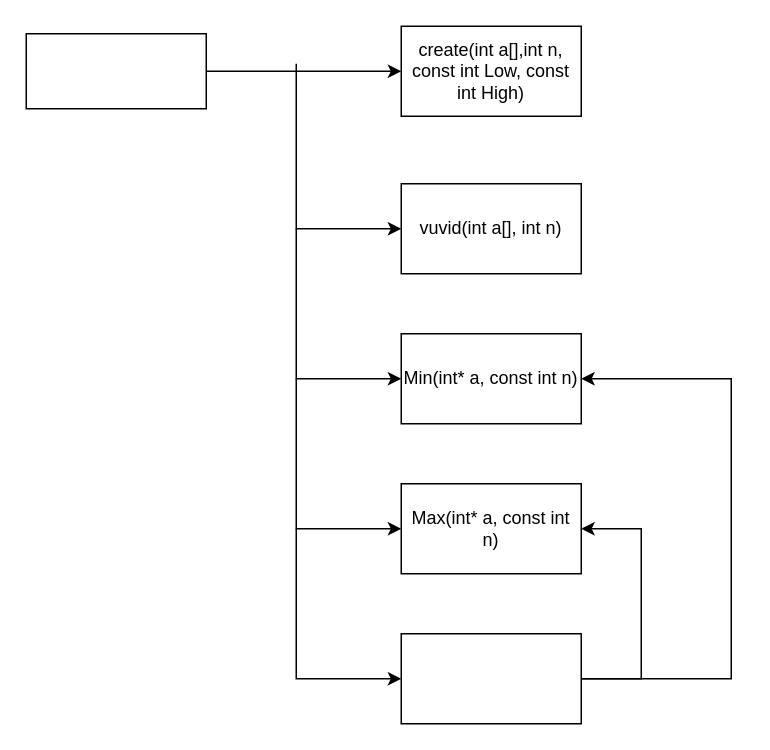
Some shapes in this 770 by 750 pixel diagram are drawn without their labels. The shapes that lost their labels are listed below. From the top down, each one's centre as x and y in pixels, then its label:
At [115,70]: "int main ()".
At [490,678]: "Sum(int* a, const int n)".
